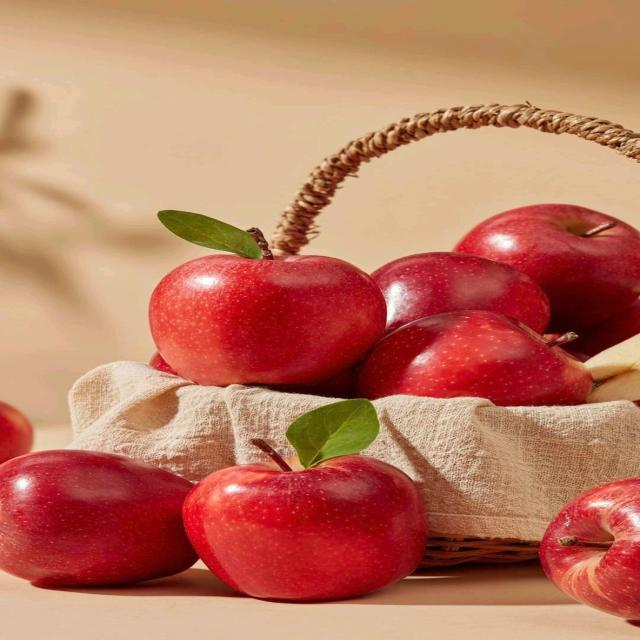apple: (184, 399, 426, 600), (149, 212, 386, 386), (184, 455, 426, 600), (0, 451, 196, 585), (455, 205, 639, 330), (356, 310, 592, 405), (372, 252, 550, 333), (540, 479, 639, 619), (575, 299, 639, 355), (586, 335, 639, 402), (271, 367, 354, 398), (587, 336, 639, 381), (0, 402, 33, 463), (587, 369, 639, 402), (149, 352, 179, 375), (563, 341, 590, 362)
